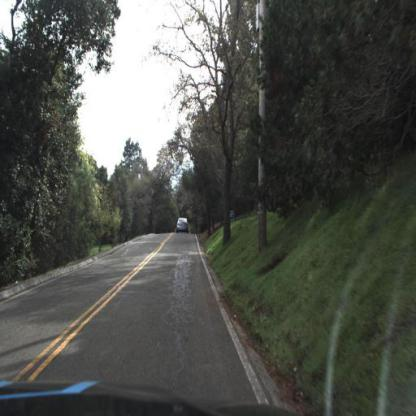car: (174, 216, 190, 235)
